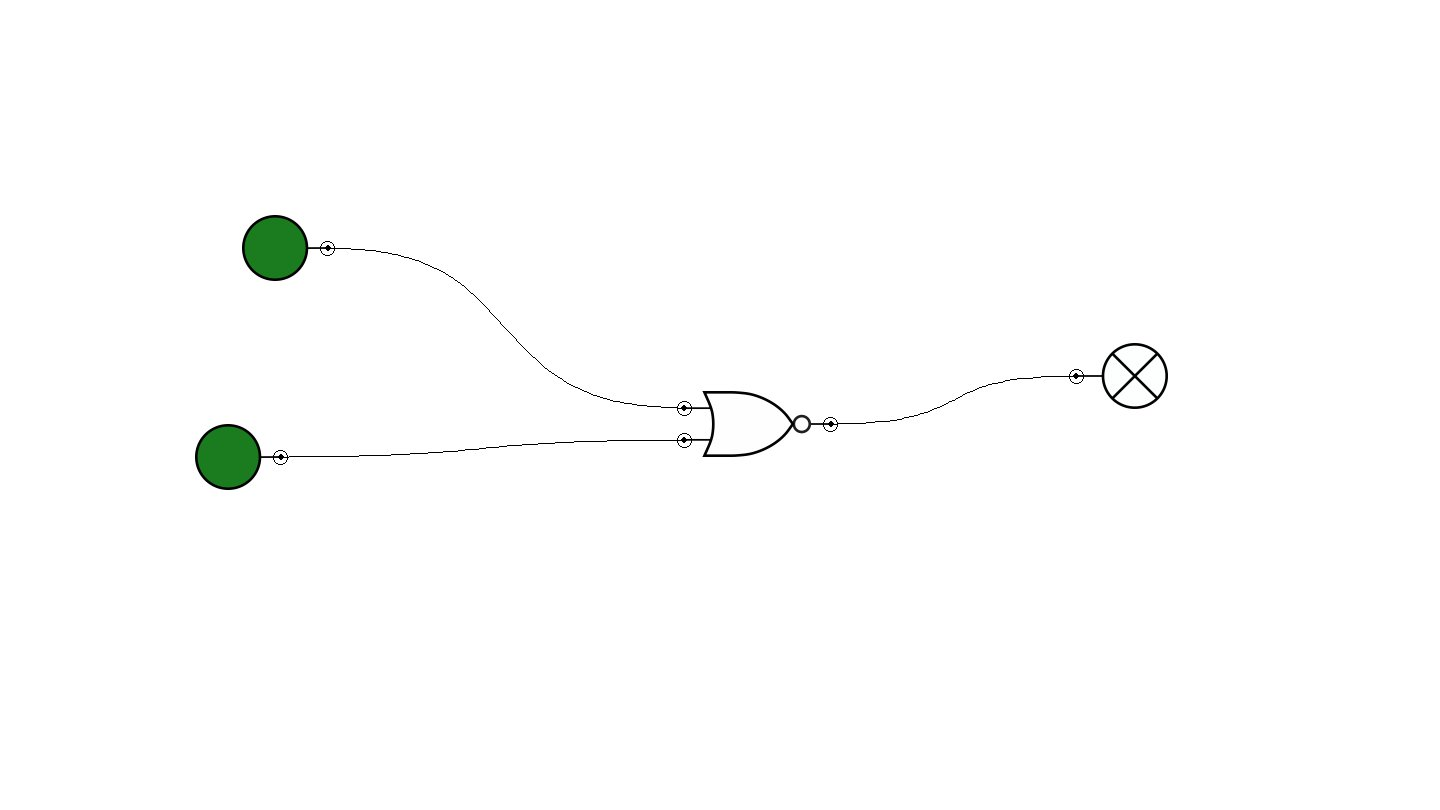bulb: (1069, 343, 1168, 409)
nor: (677, 391, 838, 457)
switch_True: (195, 424, 288, 490), (242, 215, 335, 281)
